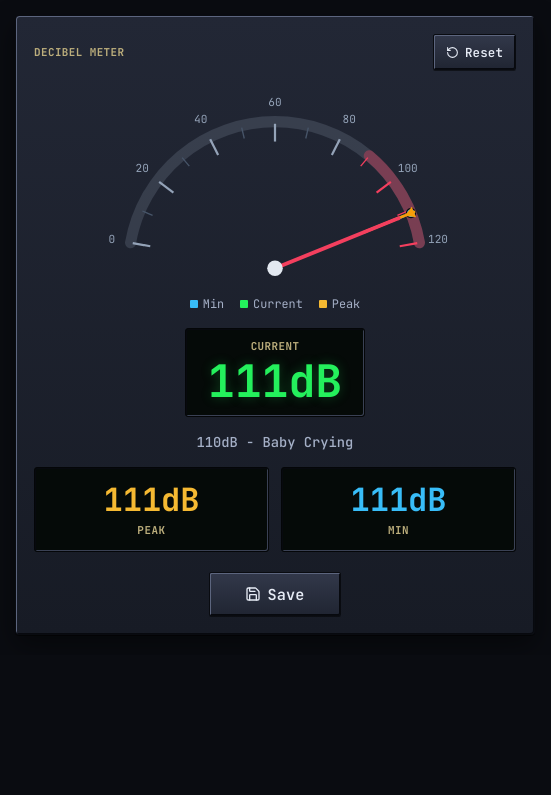
it: Decibels Tab, Meter UI & Scrollable Header Tabs › tracks current/peak/min dB SPL and resets peak/min cleanly
Expected: the element with test id "decibels-current-readout" shows "111dB", [208,351,342,410]
Expected: the element with test id "decibels-peak-card" shows "111dB", [104,478,200,521]
Click the button "Save": (275, 594) [209,572,341,616]
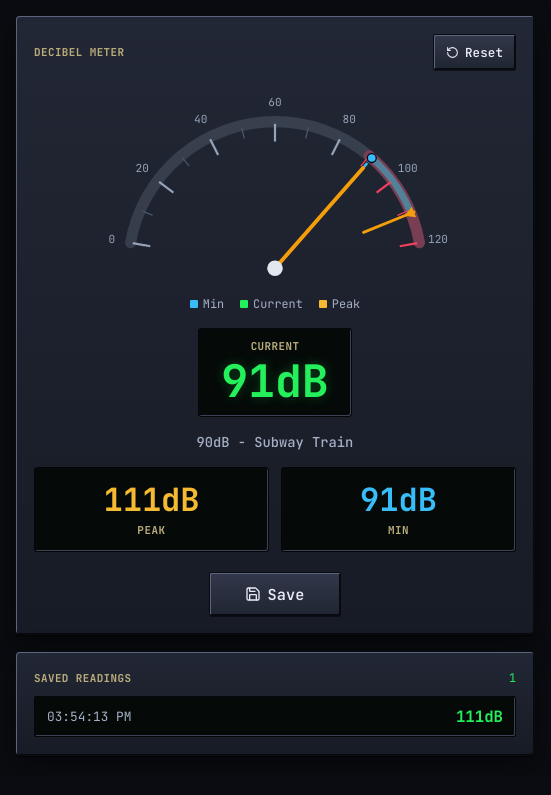
Expected: the element with test id "decibels-peak-card" shows "111dB", [104,478,200,521]
Expected: the element with test id "decibels-min-card" shows "91dB", [360,478,437,521]
Click the button "Save": (275, 594) [209,572,341,616]
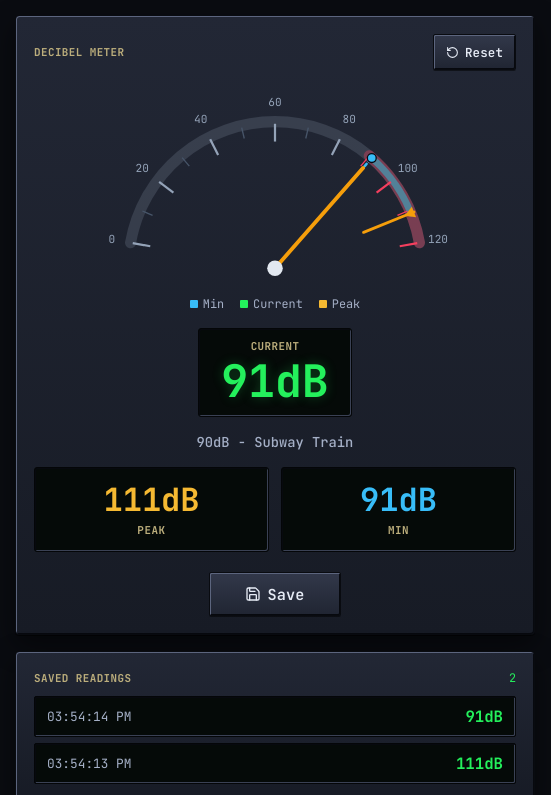
Expected: the number of elements with class "decibels-saved-time" is 2, [47,708,132,725]; [47,755,132,772]
// Reset Peak/Min sets both peak and min to current smoothed level
Click the button "Reset": (474, 52) [433,34,516,70]
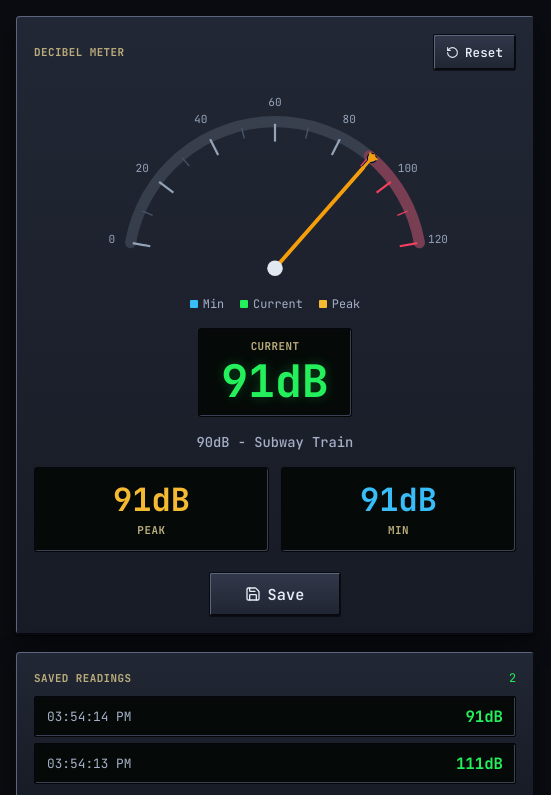
Expected: the element with test id "decibels-min-card" shows "91dB", [360,478,437,521]
Expected: the element with test id "decibels-peak-card" shows "91dB", [113,478,190,521]
